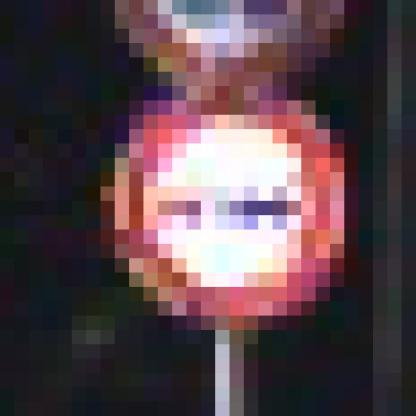No Overtaking: (87, 87, 345, 345)
